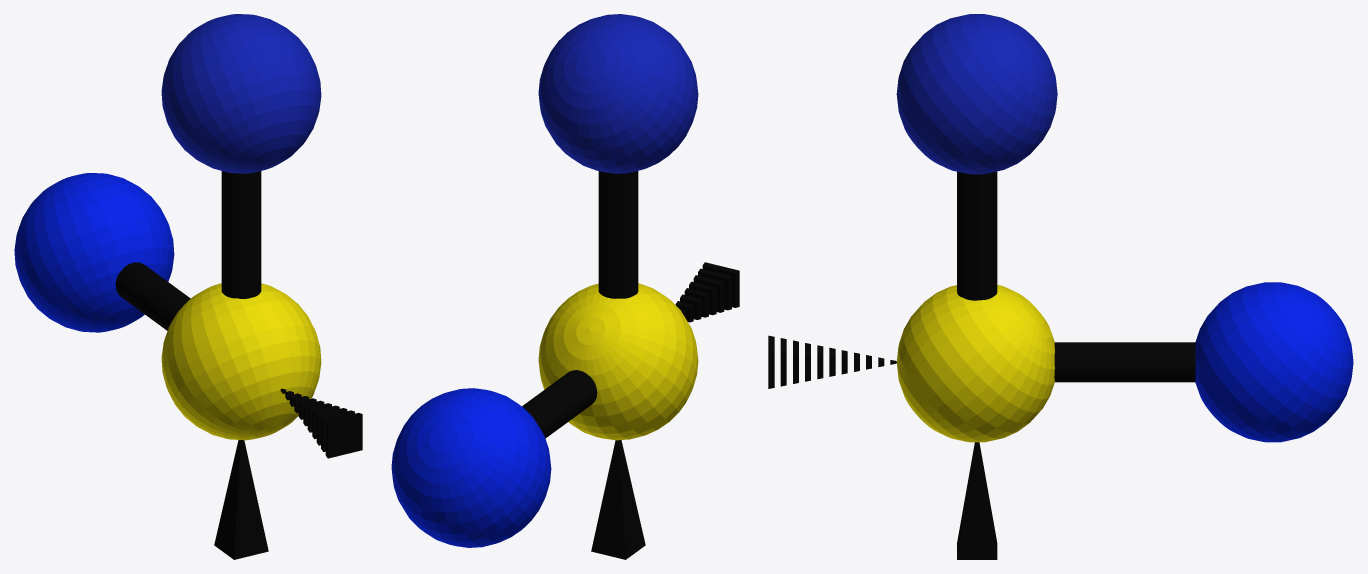
File: 3D fix.fbx
The picture shows the model from 3 angles, left to right: view 1: azimuth 30°, elevation 25°; view 2: azimuth 150°, elevation 25°; view 3: azimuth 270°, elevation 25°; orthographic projection.
Visible parts, largest first — view 1: Kiri, Pusat, Kanan, Paten, Batang Kiri, Batang Kanan; view 2: Kiri, Kanan, Pusat, Paten, Batang Kiri, Batang Kanan; view 3: Kiri, Kanan, Pusat, Batang Kanan, Batang Kiri, Paten.
Part boxes in pixels (bbox=[...]): Kiri: bbox=[161, 14, 321, 173]; Pusat: bbox=[161, 283, 321, 440]; Kanan: bbox=[14, 173, 174, 332]; Paten: bbox=[214, 388, 362, 559]; Batang Kiri: bbox=[221, 171, 261, 298]; Batang Kanan: bbox=[115, 262, 190, 330]; Kiri: bbox=[538, 14, 698, 173]; Kanan: bbox=[391, 388, 551, 547]; Pusat: bbox=[538, 283, 698, 440]; Paten: bbox=[591, 262, 739, 559]; Batang Kiri: bbox=[598, 171, 638, 298]; Batang Kanan: bbox=[522, 370, 597, 438]; Kiri: bbox=[896, 14, 1057, 174]; Kanan: bbox=[1195, 282, 1353, 442]; Pusat: bbox=[896, 285, 1054, 442]; Batang Kanan: bbox=[1054, 342, 1195, 382]; Batang Kiri: bbox=[957, 171, 997, 300]; Paten: bbox=[768, 335, 997, 559].
Size of the model in its own units: 200 by 727 by 727.
